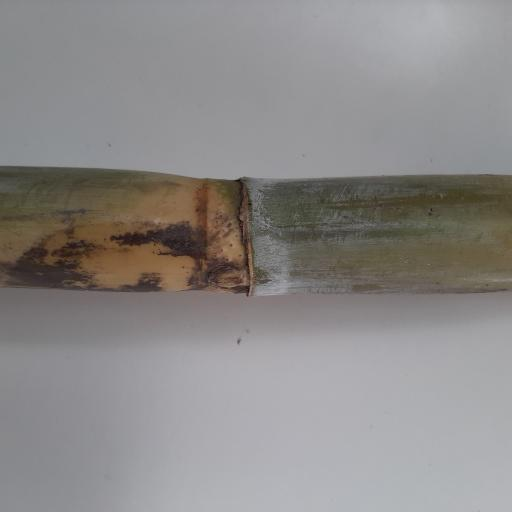Bud: (206, 265, 243, 290)
